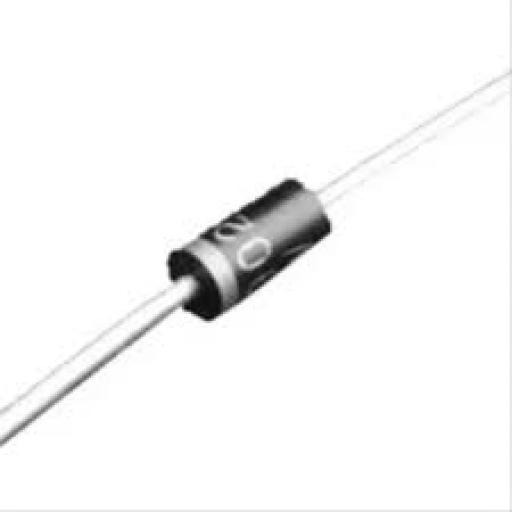DIODE: (155, 154, 373, 348)
